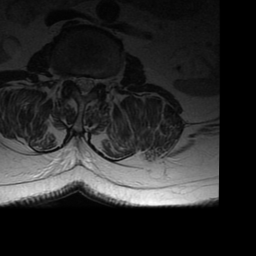CCS_normal: (81, 69, 88, 103)
LFS_severe_stenosis: (96, 71, 103, 89)
LLS_normal: (88, 70, 95, 93)
RFS_stenosis: (65, 69, 73, 88)
RLS_stenosis: (73, 70, 81, 91)
